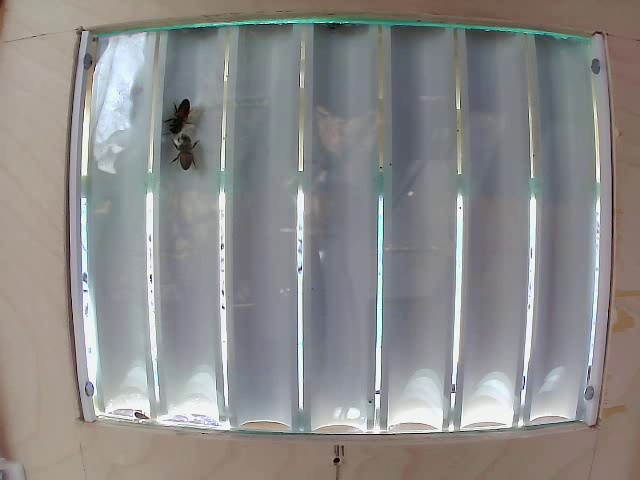bee: (171, 98, 199, 148), (167, 147, 207, 180)
